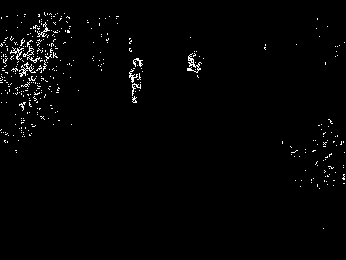person: (128, 57, 144, 103)
